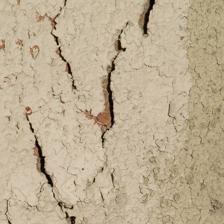Crack: (4, 0, 70, 78), (52, 71, 175, 106), (76, 37, 148, 55), (35, 16, 68, 36)
